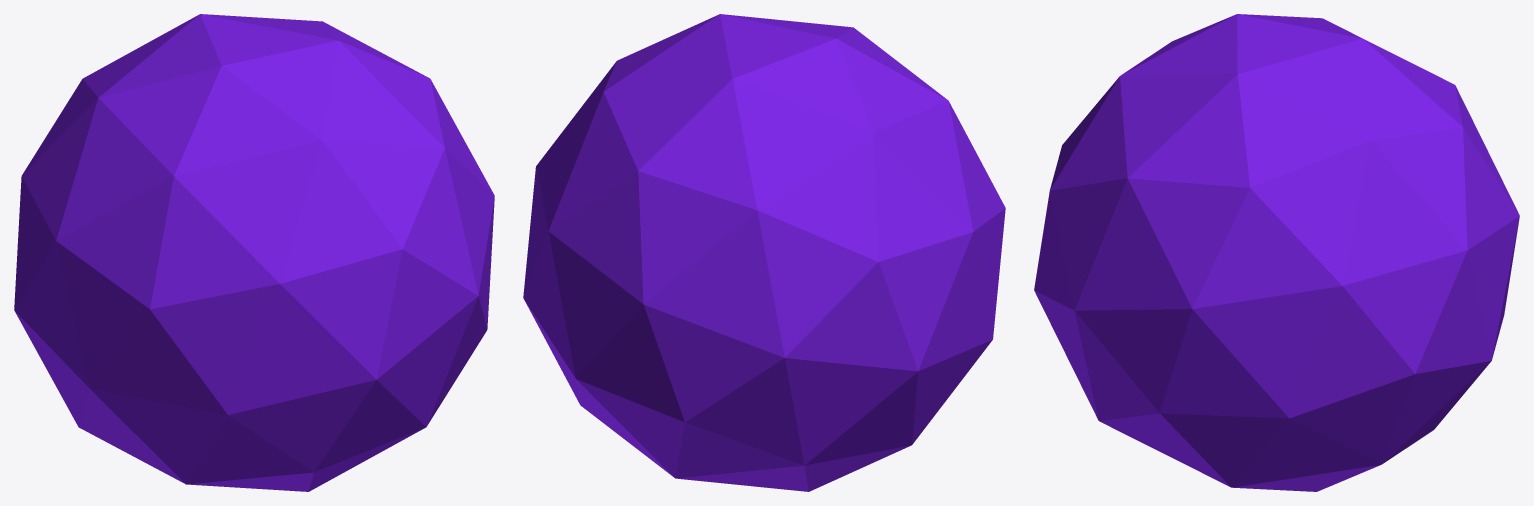
The model's file is avatar.gltf.
3 renders of one model, left to right at view 1: azimuth 30°, elevation 25°; view 2: azimuth 150°, elevation 25°; view 3: azimuth 270°, elevation 25°, orthographic.
Visible parts, largest first — view 1: Icosphere.002; view 2: Icosphere.002; view 3: Icosphere.002.
Part boxes in pixels (x1=…): Icosphere.002: x1=14, y1=14, x2=494, y2=491; Icosphere.002: x1=523, y1=14, x2=1005, y2=491; Icosphere.002: x1=1034, y1=14, x2=1519, y2=491.
Size of the model in its own units: 1.69 by 1.69 by 1.75.
